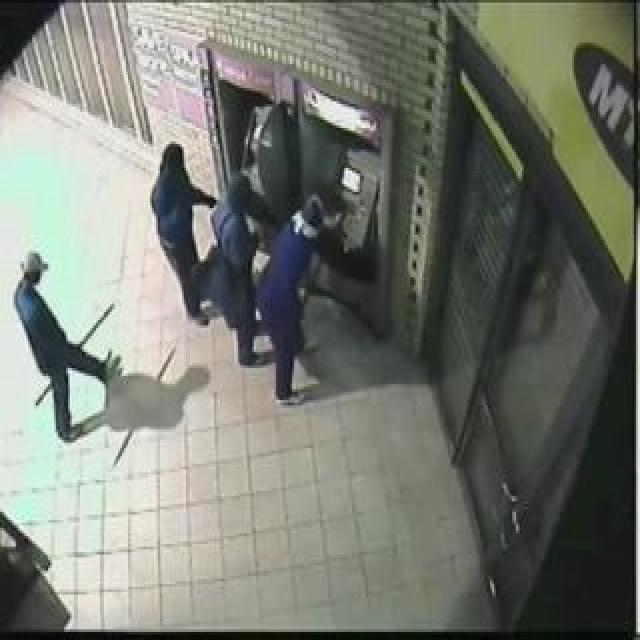thief: (146, 132, 343, 278), (8, 228, 64, 314)
